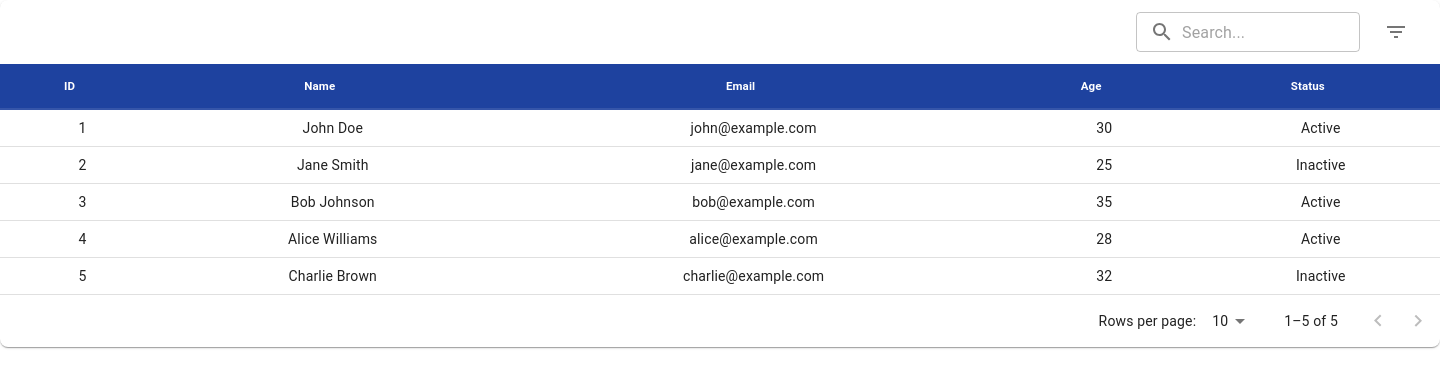
Test: DataTable Component › filters data when search is used
This screenshot has width=1452, height=366.
Type "john" into the field with placeholder "Search..." at (1271, 32), box left=1182, top=12, right=1360, bottom=52
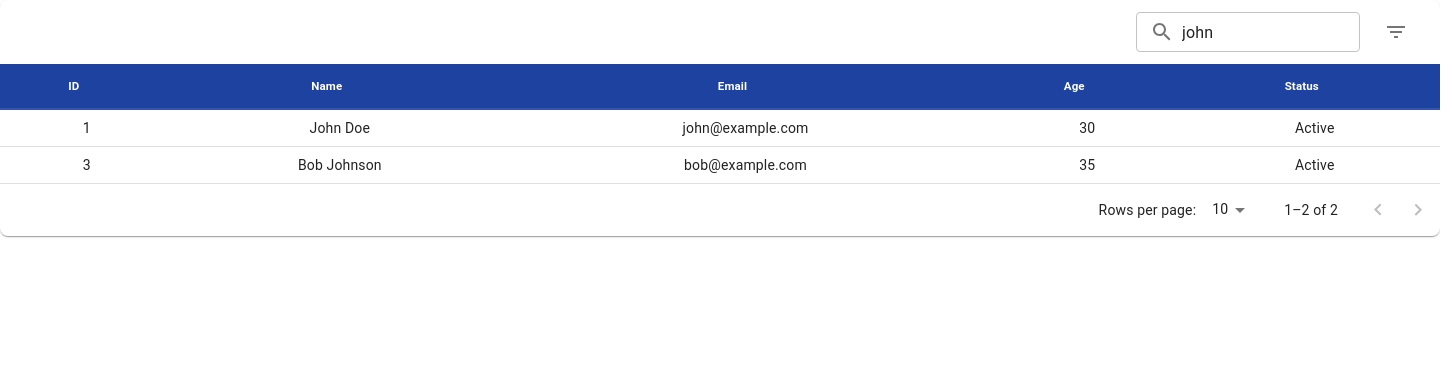
Check: the text "John Doe" is shown, box left=174, top=110, right=506, bottom=147
Check: the checkbox "Jane Smith" is gone
